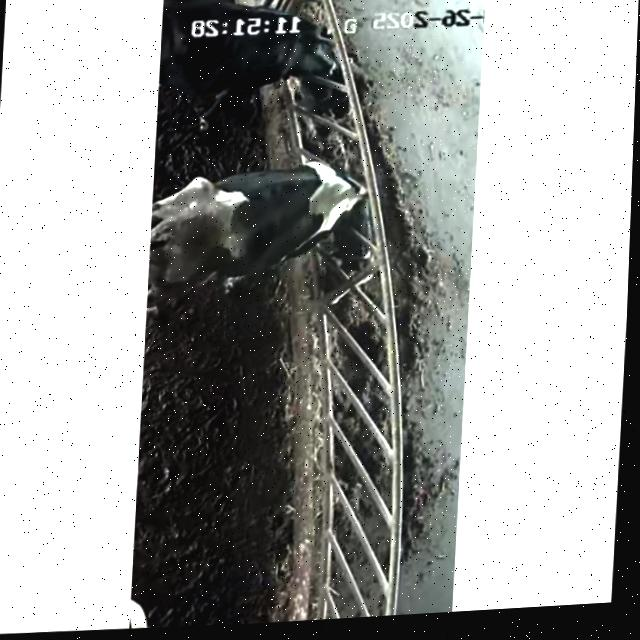eat: (239, 0, 399, 125), (267, 142, 419, 268)
